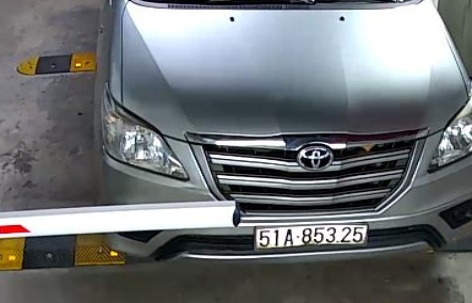plate: (251, 218, 369, 252)
